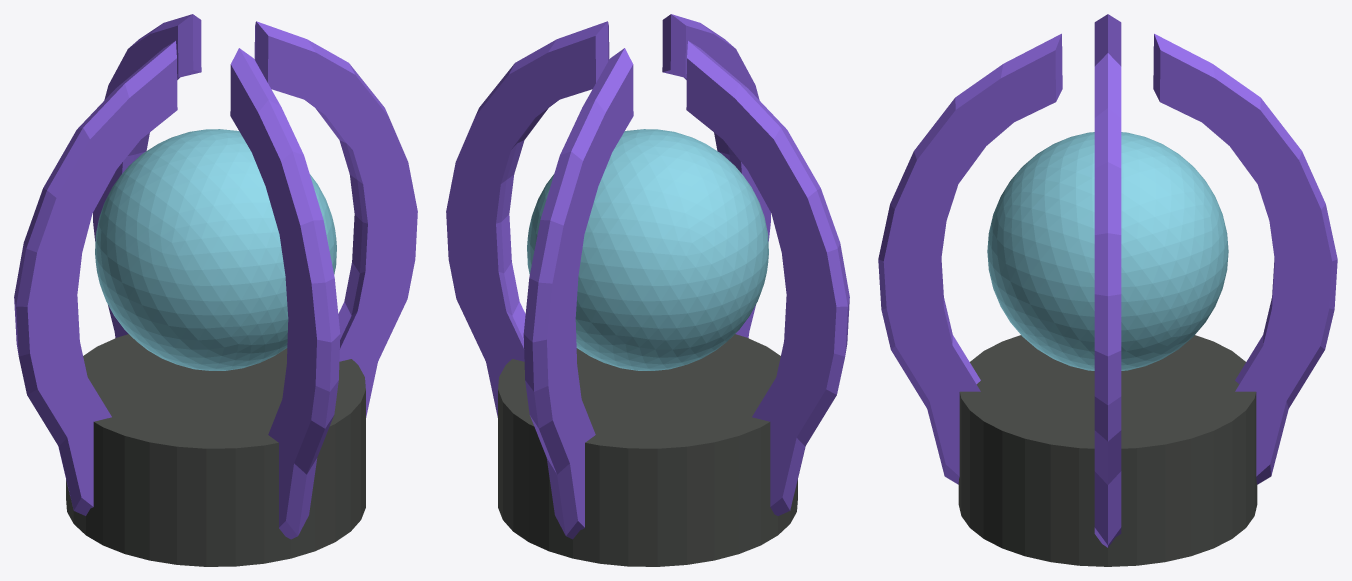
Rendered from core.fbx.
The picture shows the model from 3 angles, left to right: view 1: azimuth 30°, elevation 25°; view 2: azimuth 150°, elevation 25°; view 3: azimuth 270°, elevation 25°; orthographic projection.
Visible parts, largest first — view 1: Cylinder-col, Icosphere; view 2: Cylinder-col, Icosphere; view 3: Cylinder-col, Icosphere.
Boxes of the visible parts, <box> form: Cylinder-col: <box>14,14,417,566</box>; Icosphere: <box>95,129,336,370</box>; Cylinder-col: <box>446,14,849,566</box>; Icosphere: <box>527,129,768,370</box>; Cylinder-col: <box>878,14,1337,566</box>; Icosphere: <box>987,132,1228,370</box>.
Size of the model in its own units: 1603 by 1811 by 1603.
